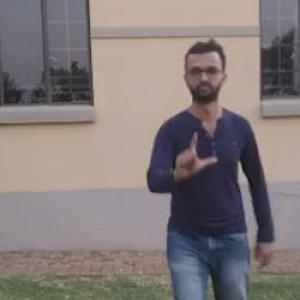land_hand: (169, 126, 220, 180)
